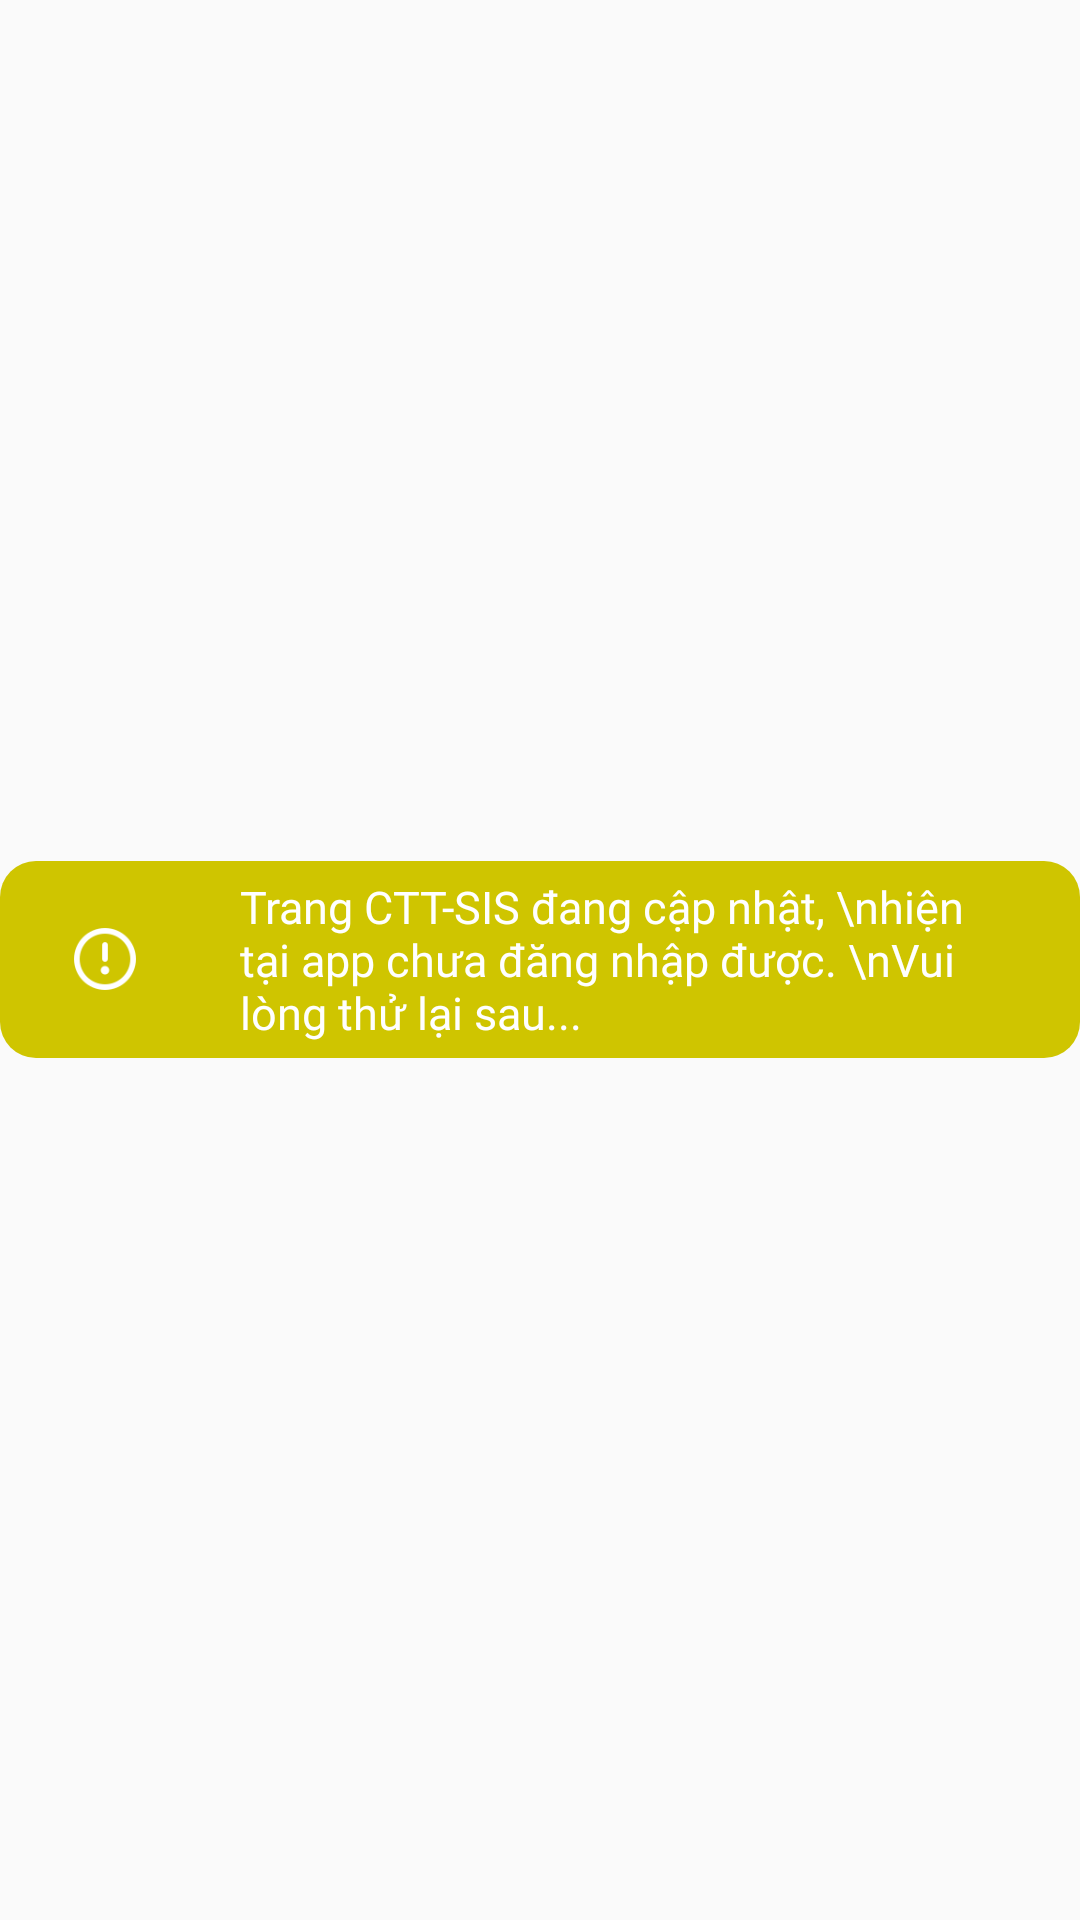

Where to tap for icons on this 1080×1920 app screen, as [x,y]:
warning: [105,959]
